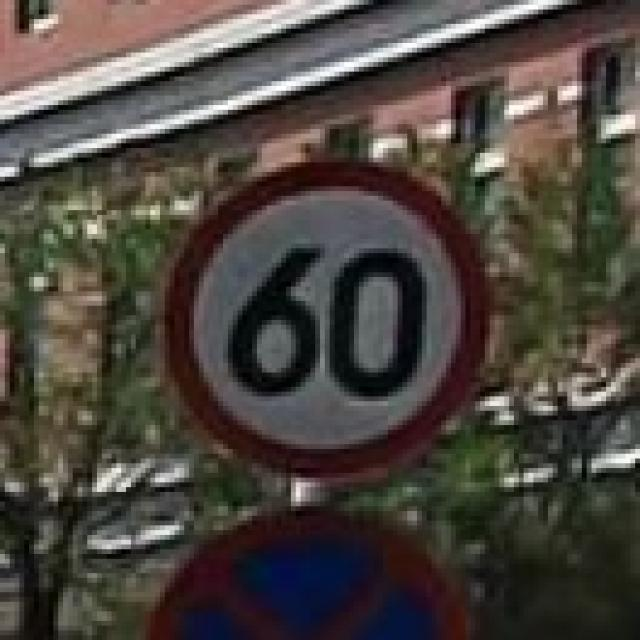Speed Limit -60-: (222, 240, 452, 406)
